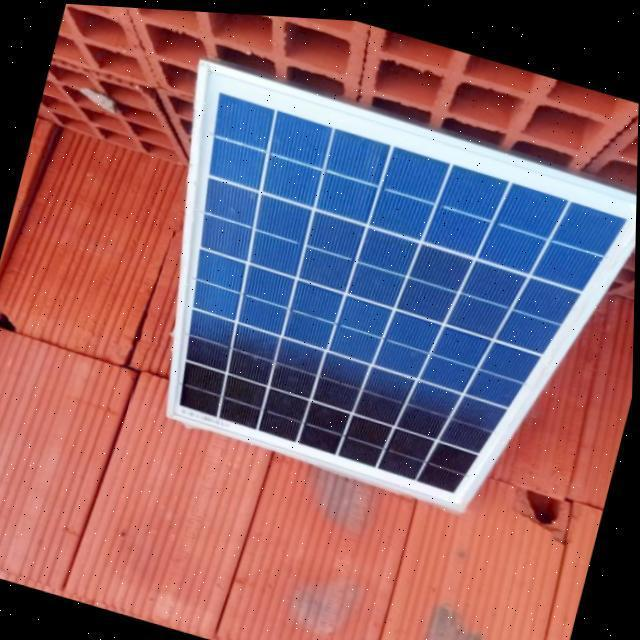Normal Solar Panel: (109, 54, 639, 536)
